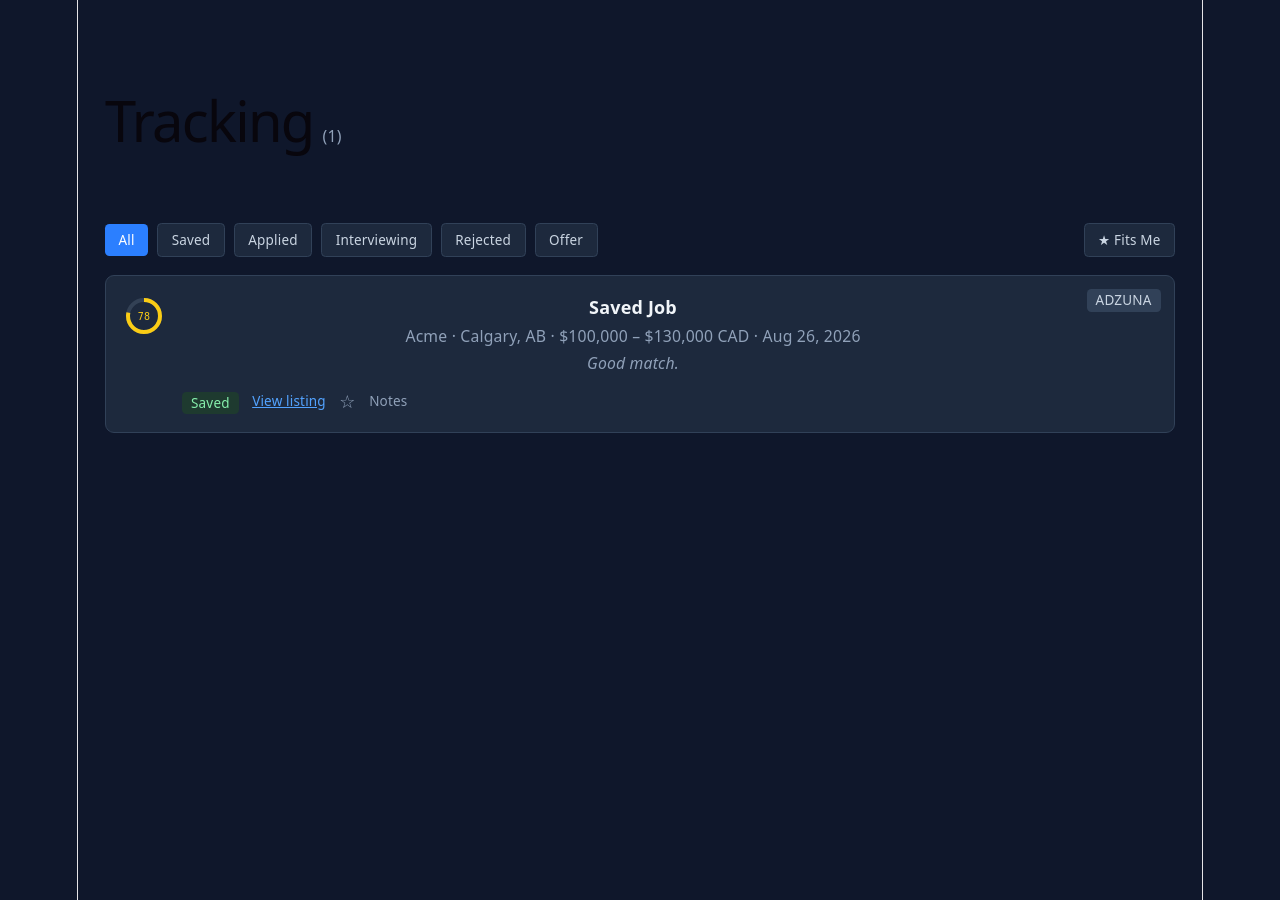
Test: Tracking › shows a new empty state with a working Reset (tab has jobs but none are Fits Me), leaving the tab selection untouched
expect the text "Saved Job" is shown: met, box 589,295 -> 677,319
Click the 1st button "Saved".
click(191, 240)  # box 157,223 -> 225,257
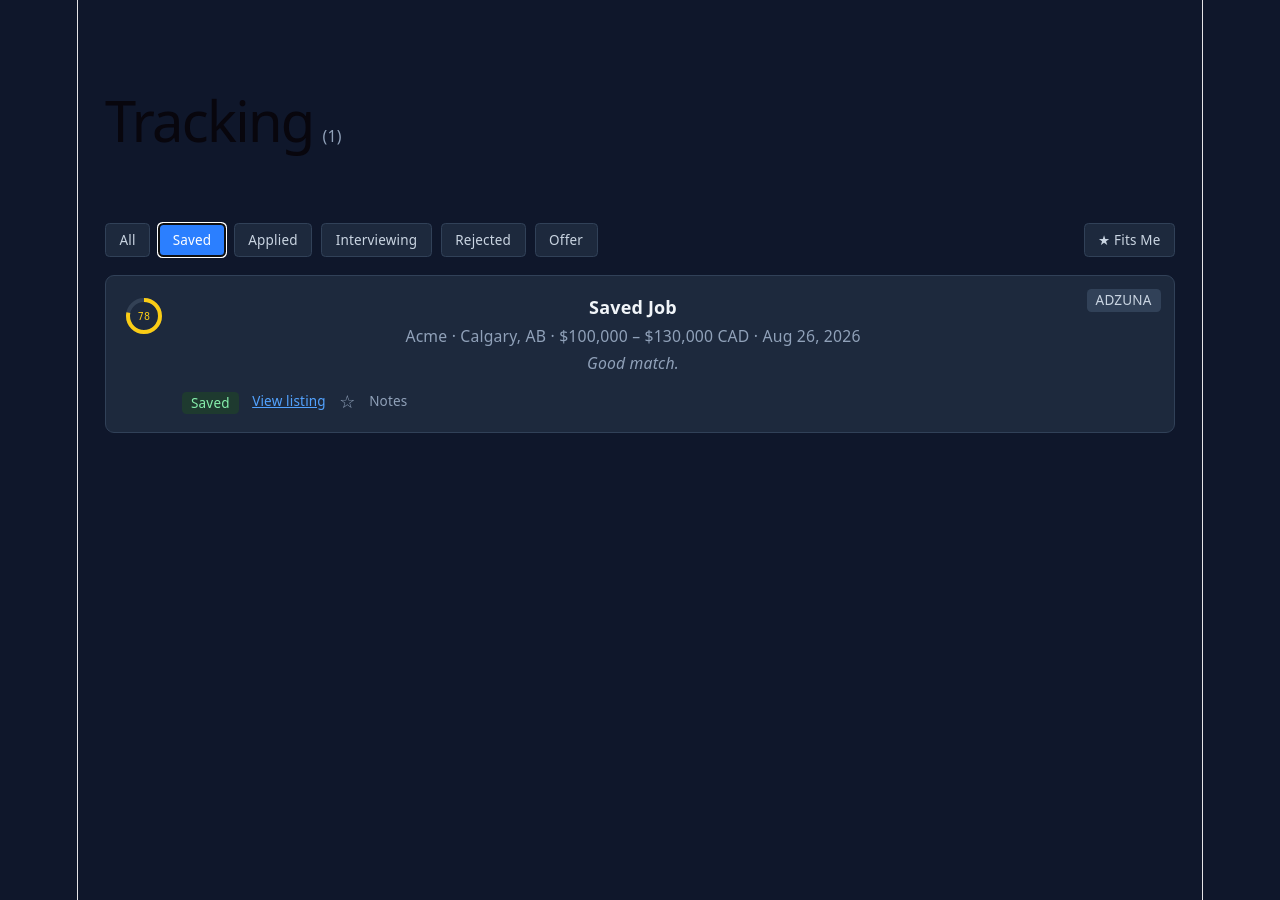
Click the button with test id "fits-me-filter-button".
click(1129, 240)  # box 1084,223 -> 1175,257
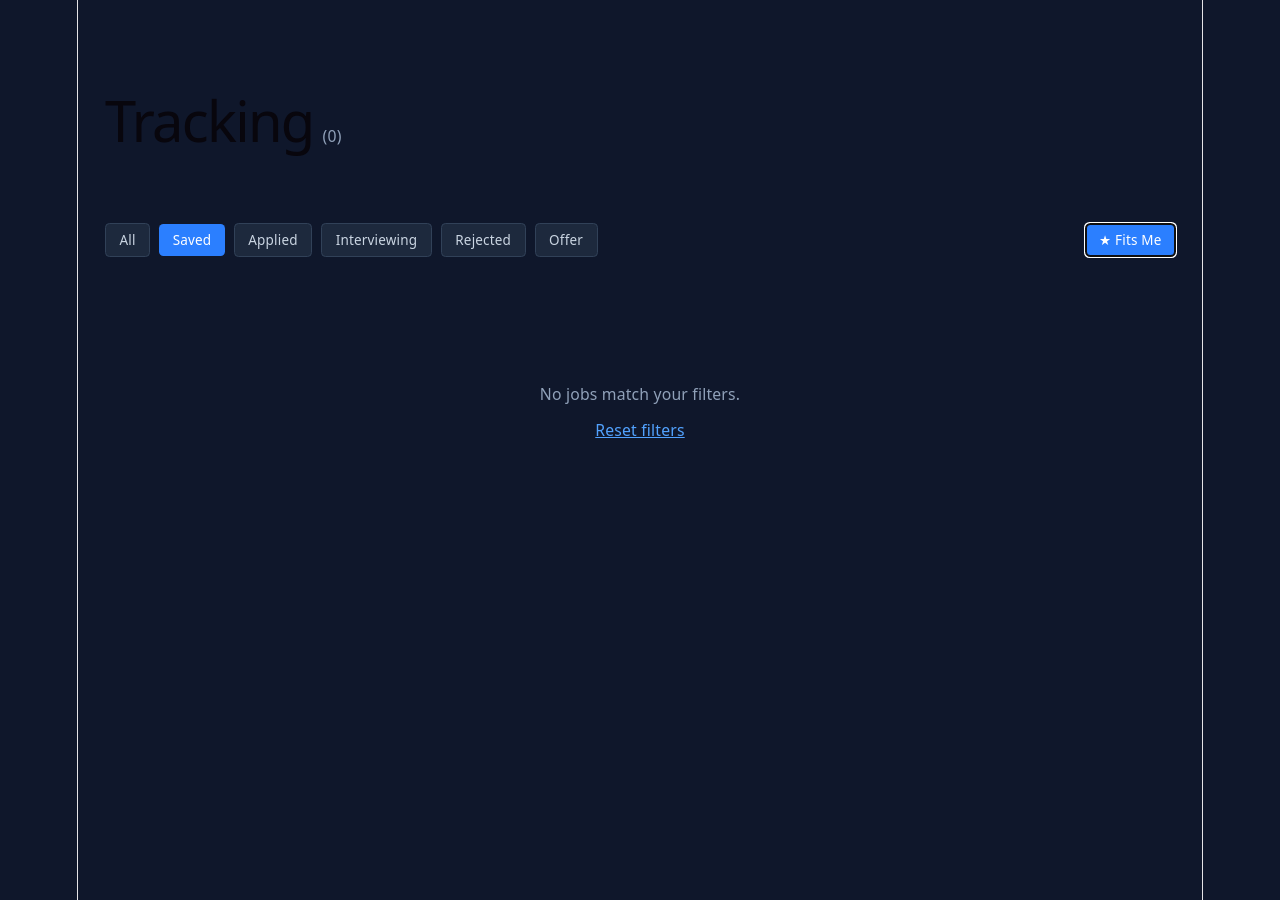
expect the text "No jobs match your filters." is shown: met, box 540,383 -> 740,405
expect the button "Reset filters" is shown: met
Click the button "Reset filters".
click(640, 430)  # box 595,419 -> 685,441
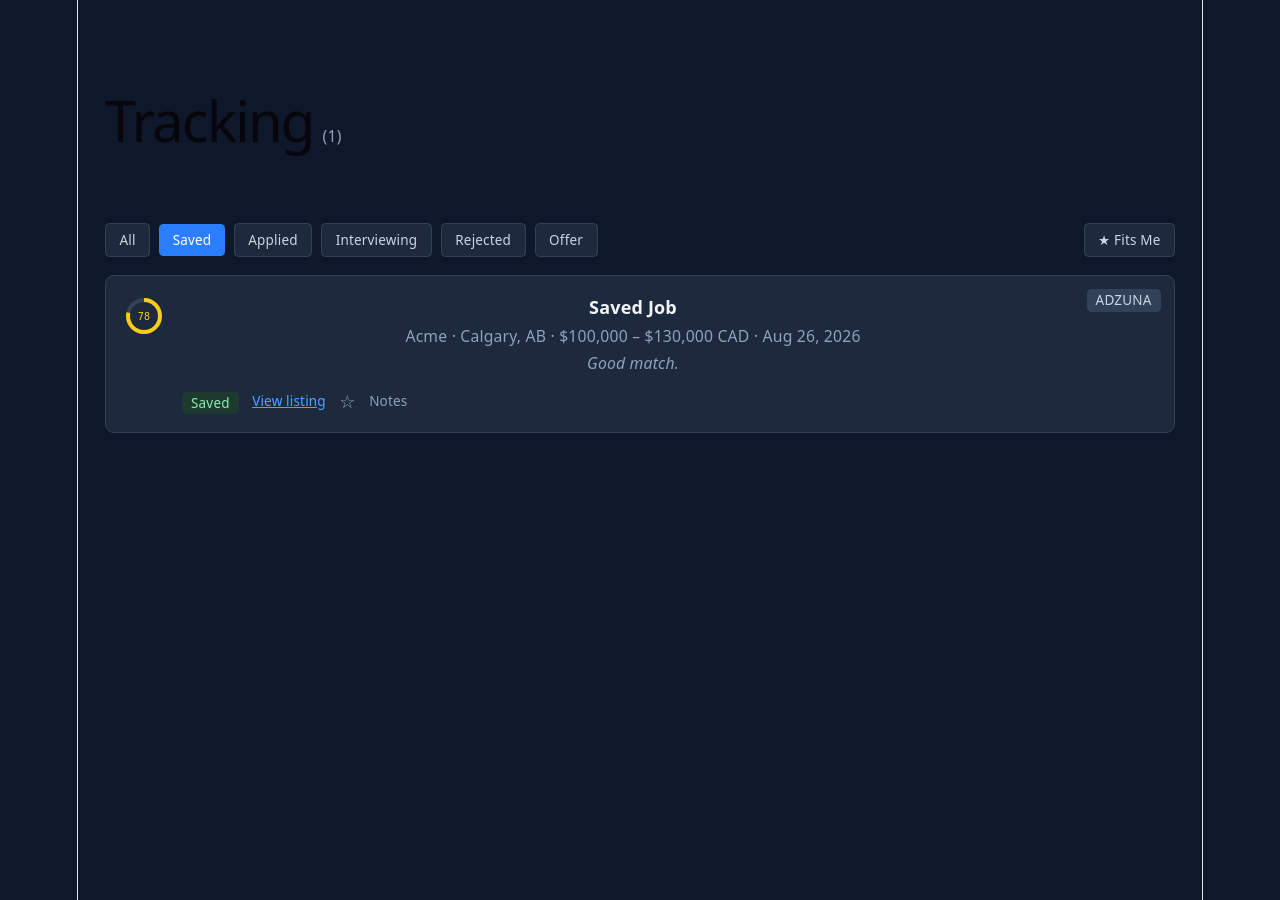
expect the text "Saved Job" is shown: met, box 589,295 -> 677,319
